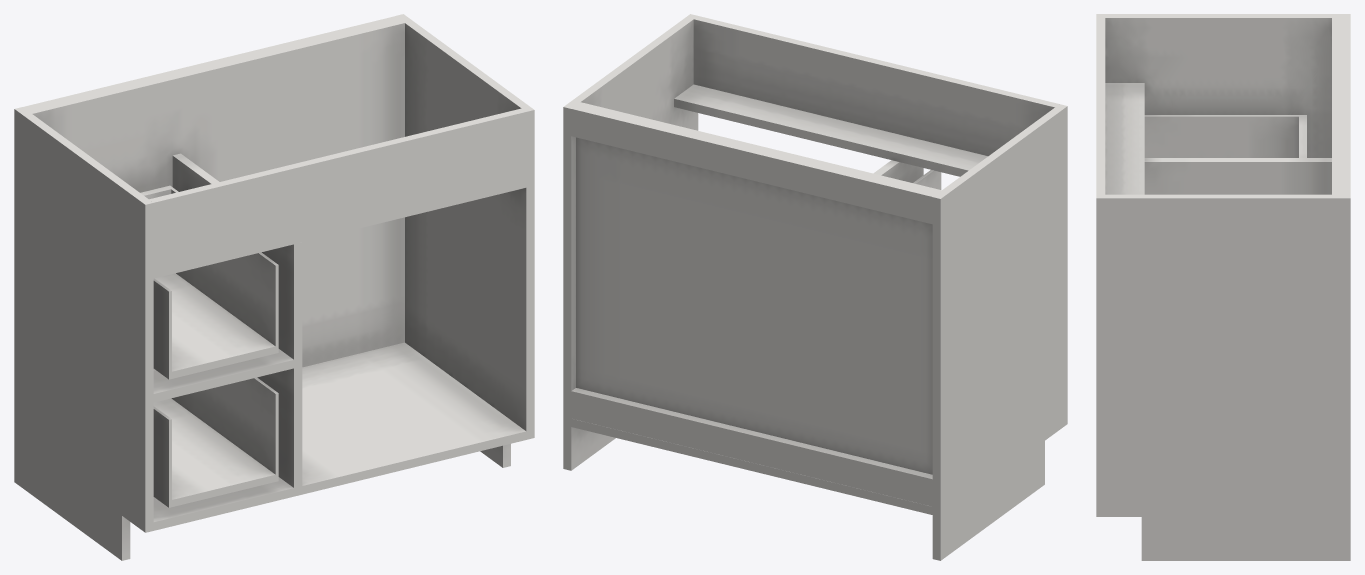
The model's file is 2-door-2-drawer-vanity-doors-off.glb.
The picture shows the model from 3 angles, left to right: view 1: azimuth 30°, elevation 25°; view 2: azimuth 150°, elevation 25°; view 3: azimuth 270°, elevation 25°; orthographic projection. The views are drawn at different scales.
Visible parts, largest first — view 1: part_0, part_4; view 2: part_0; view 3: part_0, part_4.
Boxes of the visible parts, x1,y1,x2,y2 form: part_0: (14,14,534,560); part_4: (140,185,278,507); part_0: (563,14,1067,560); part_0: (1096,14,1350,560); part_4: (1144,115,1306,157).
Size of the model in its own units: 0.9144 by 0.8383 by 0.5334.
2 materials, 1 textured.
